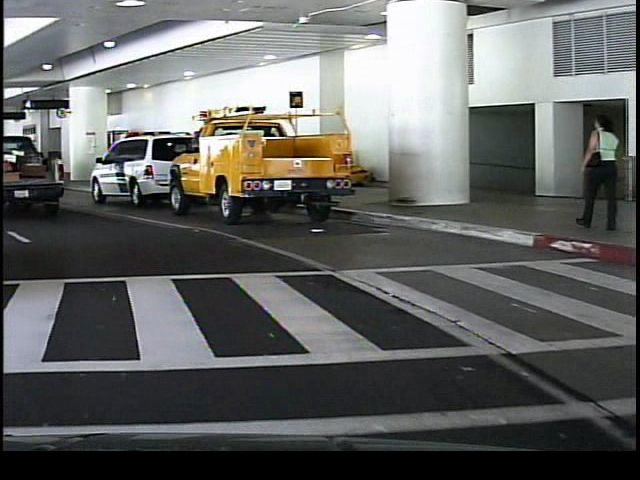person: (572, 109, 620, 233)
